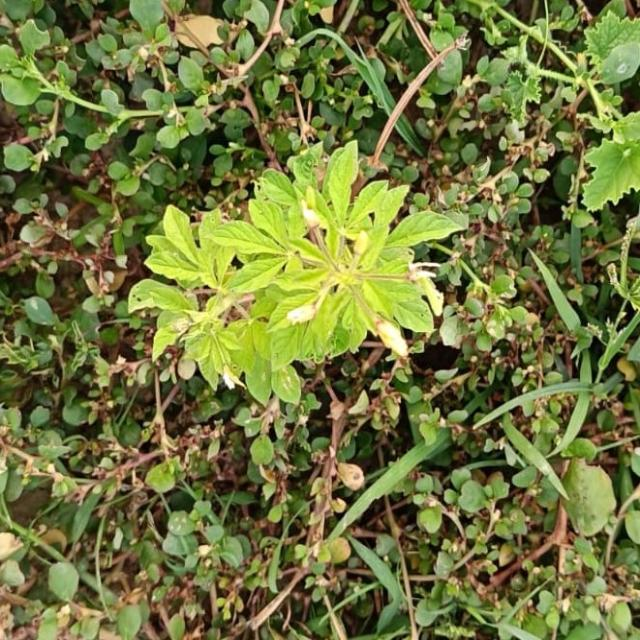weed: (129, 141, 461, 404)
